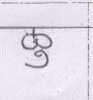u_matra: (27, 49, 52, 70)
